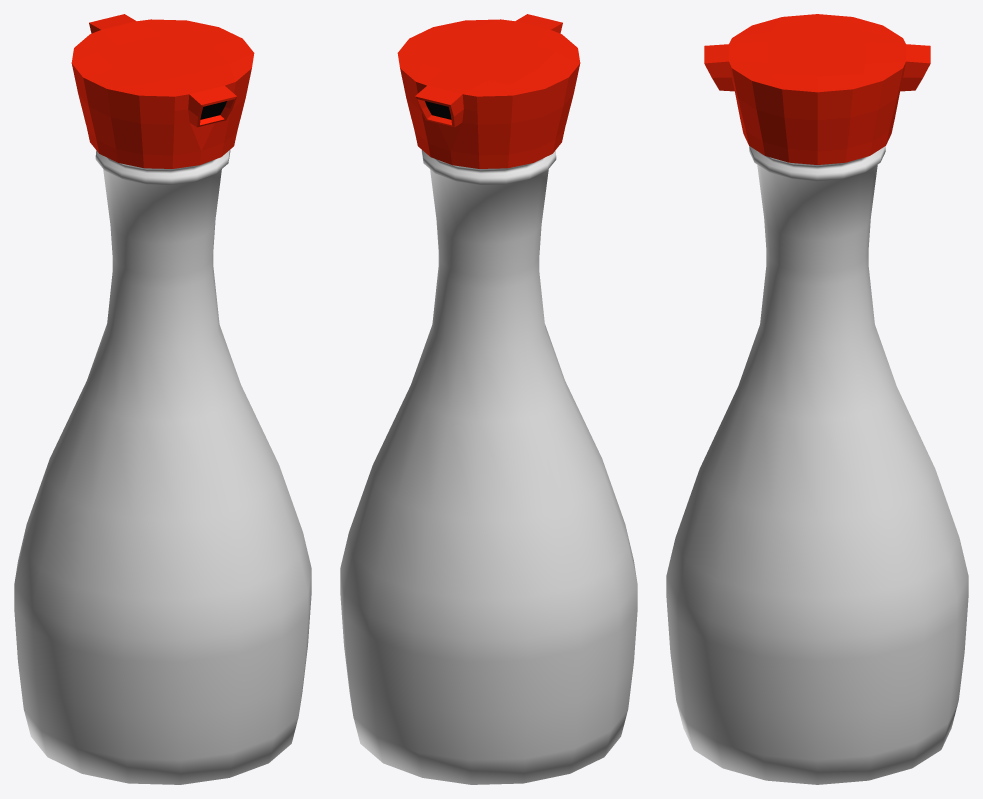
File: soysauce.fbx
The picture shows the model from 3 angles, left to right: view 1: azimuth 30°, elevation 25°; view 2: azimuth 150°, elevation 25°; view 3: azimuth 270°, elevation 25°; orthographic projection.
Parts seen in each view (by area): view 1: bottle, cap; view 2: bottle, cap; view 3: bottle, cap.
Part boxes in pixels (x1=…): bottle: x1=14, y1=150, x2=311, y2=784; cap: x1=71, y1=14, x2=254, y2=168; bottle: x1=340, y1=150, x2=637, y2=784; cap: x1=397, y1=14, x2=580, y2=168; bottle: x1=666, y1=146, x2=968, y2=784; cap: x1=704, y1=14, x2=930, y2=164.
Bounding box in the file's own units: 227 × 560 × 227.
